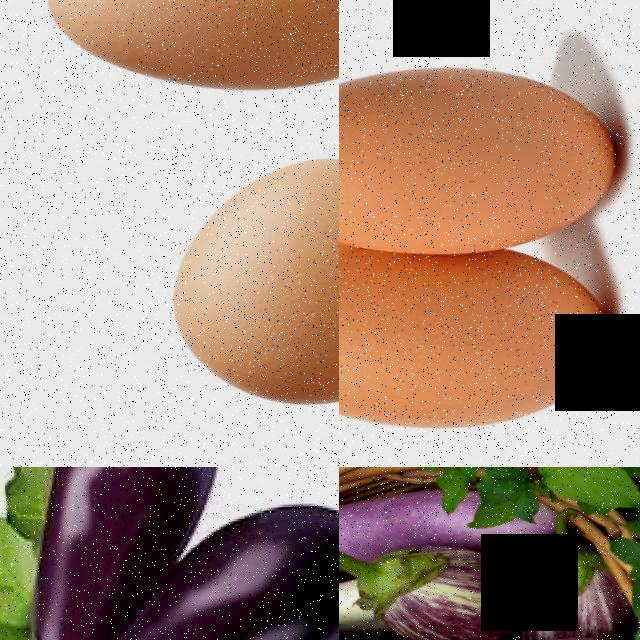egg_: (339, 62, 621, 259), (339, 249, 616, 438), (149, 154, 339, 416), (34, 0, 339, 102)
eggplant: (51, 501, 339, 640), (15, 467, 226, 558), (358, 549, 518, 640), (512, 553, 622, 640)
